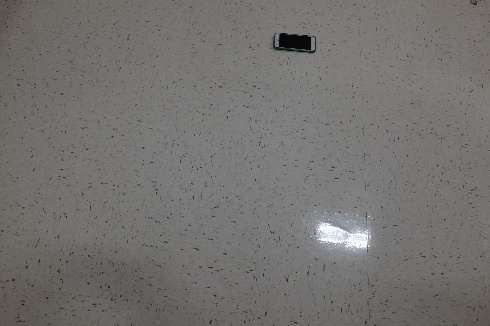phone: (269, 25, 318, 57)
